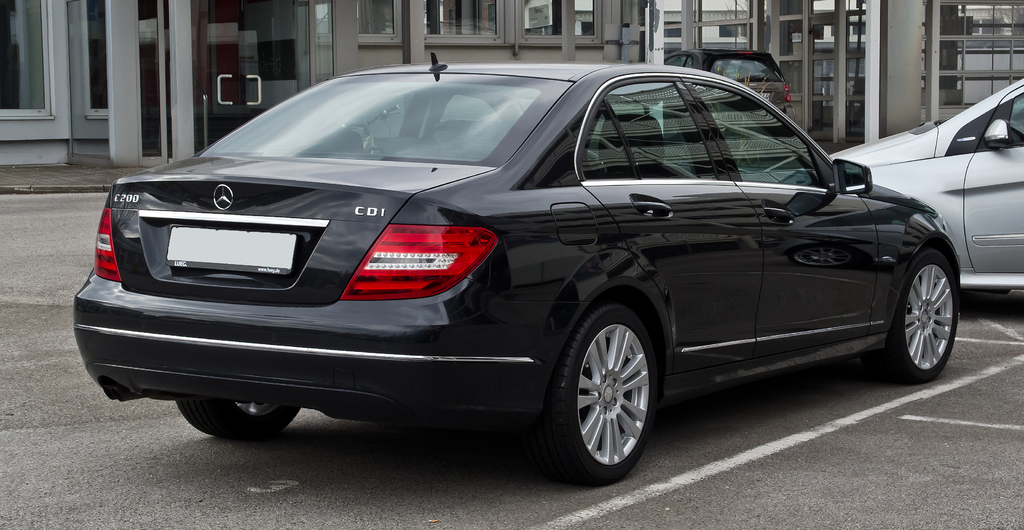Car: (70, 51, 960, 483), (831, 72, 1023, 290), (663, 44, 797, 117)
